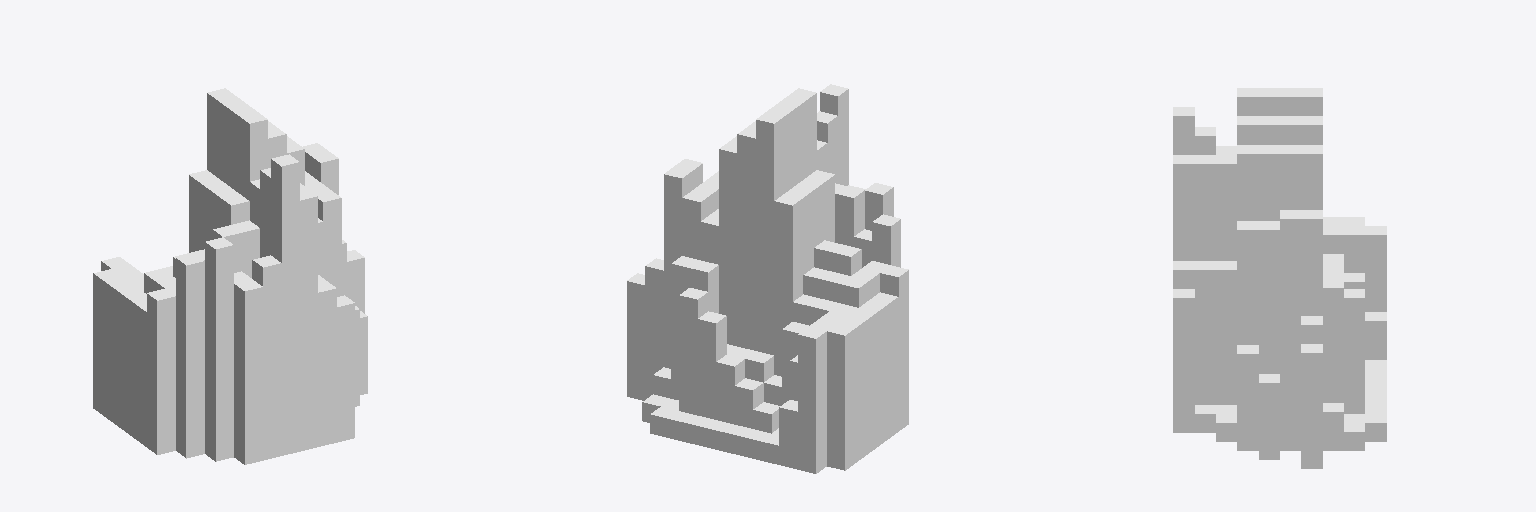
The model's file is hitech.obj.
3 renders of one model, left to right at view 1: azimuth 30°, elevation 25°; view 2: azimuth 150°, elevation 25°; view 3: azimuth 270°, elevation 25°, orthographic.
Visible parts, largest first — view 1: ObjObject; view 2: ObjObject; view 3: ObjObject.
Part boxes in pixels (x1,y1,x2,y2): ObjObject: (93, 88, 367, 464); ObjObject: (627, 84, 908, 473); ObjObject: (1173, 88, 1386, 468).
Size of the model in its own units: 1.3 by 1.6 by 1.